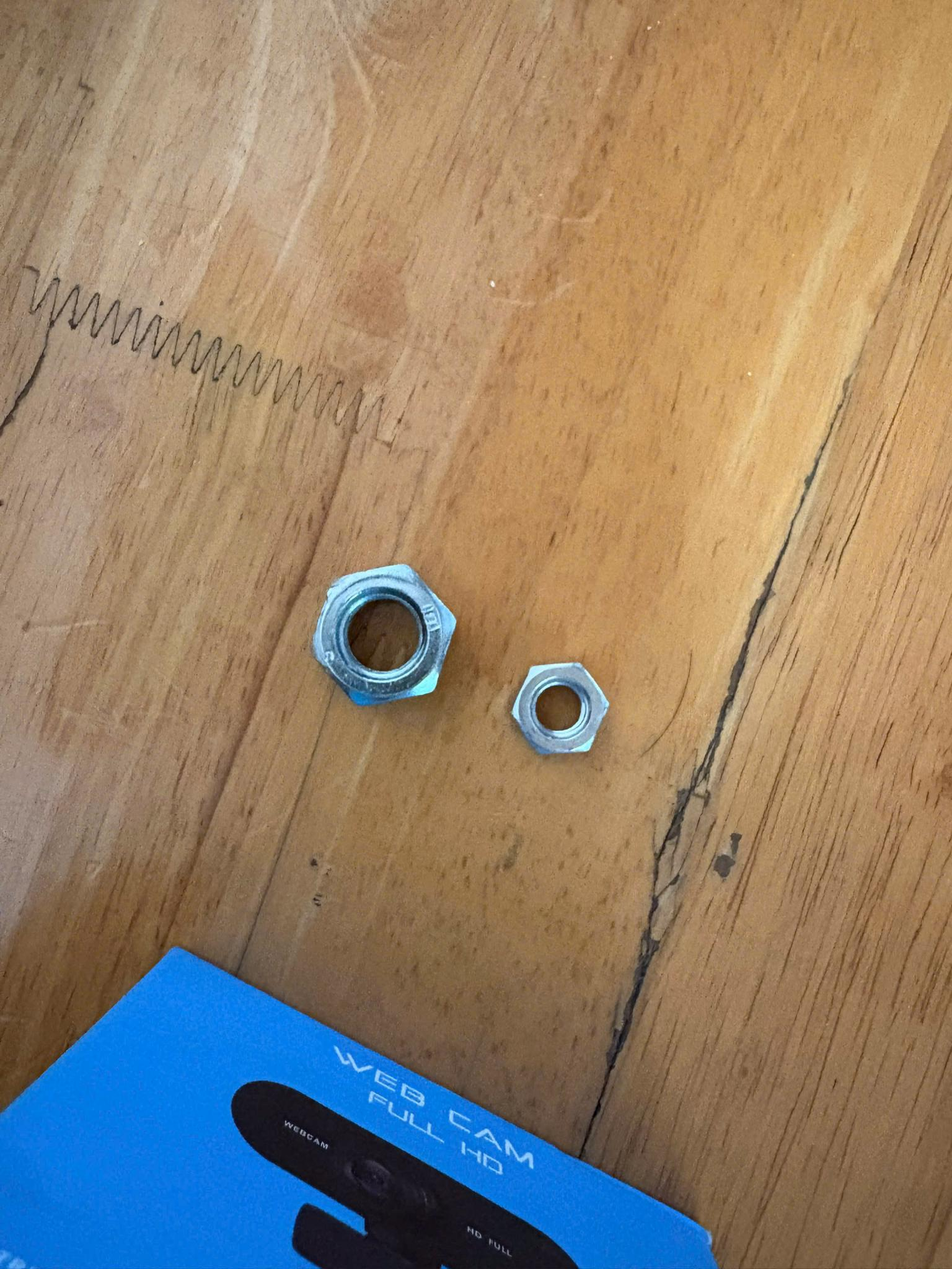nut: (307, 553, 466, 718), (511, 650, 615, 779)
